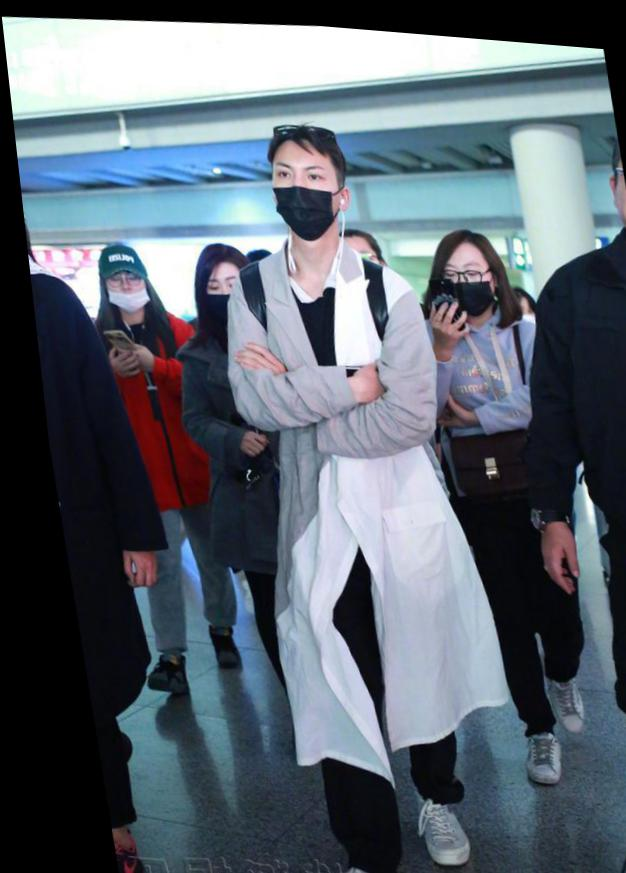OK: (269, 150, 351, 231), (430, 246, 496, 311), (187, 262, 252, 326)
WRONG: (94, 263, 147, 315)
